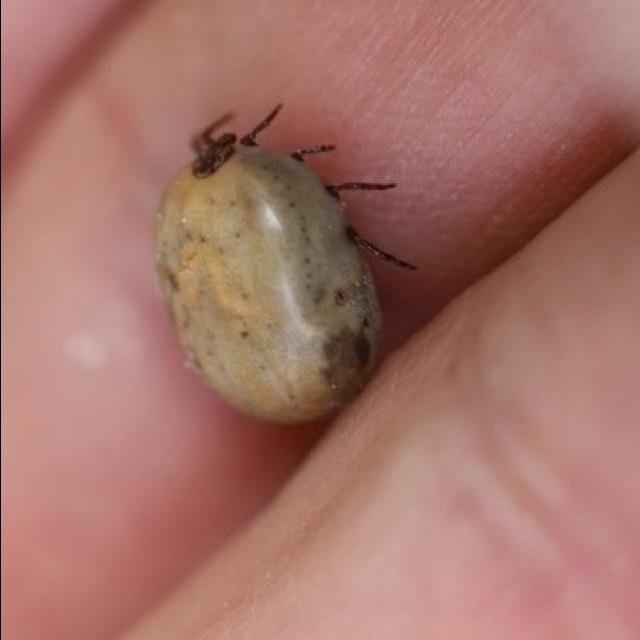Dermacentor Reticulatus-F-Fed: (152, 105, 417, 424)
